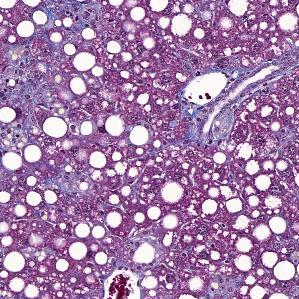fibrosis: (5, 47, 73, 111), (177, 106, 242, 151)
